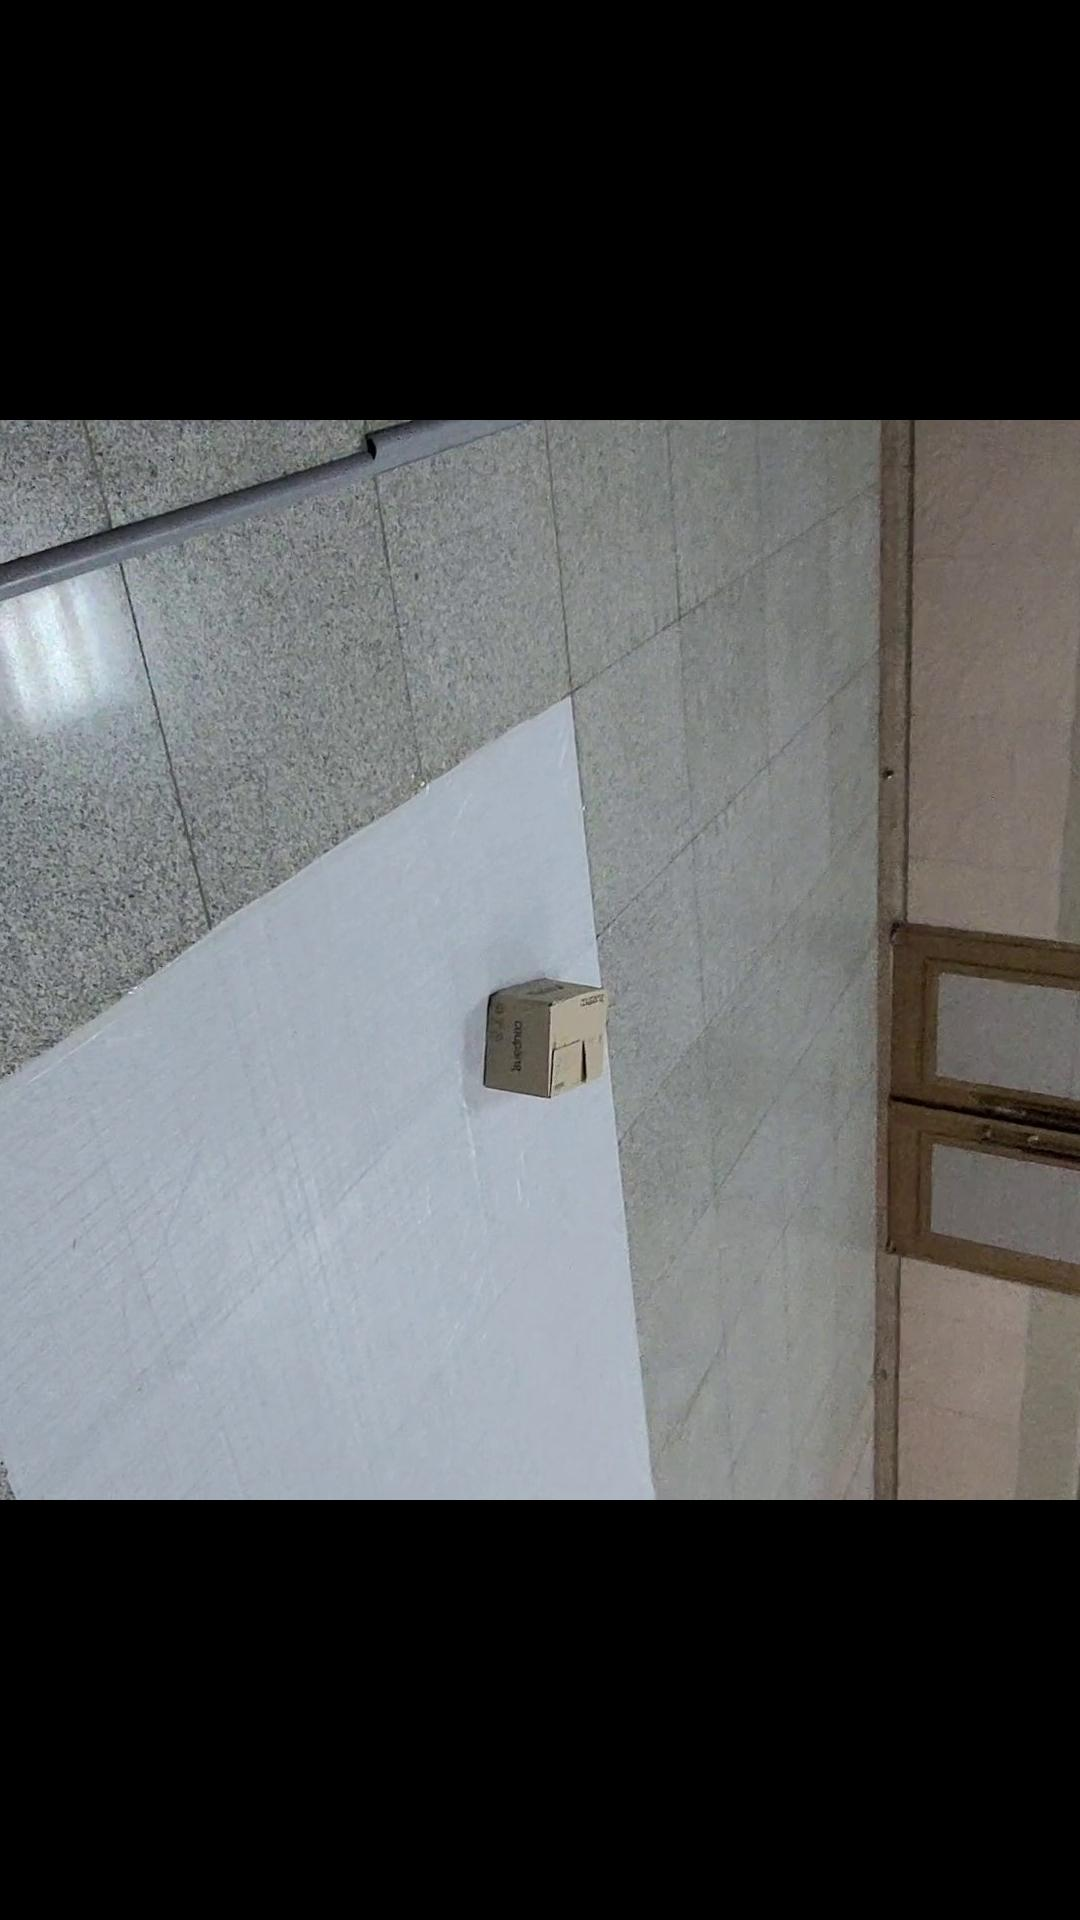Box: (455, 911, 670, 1145)
